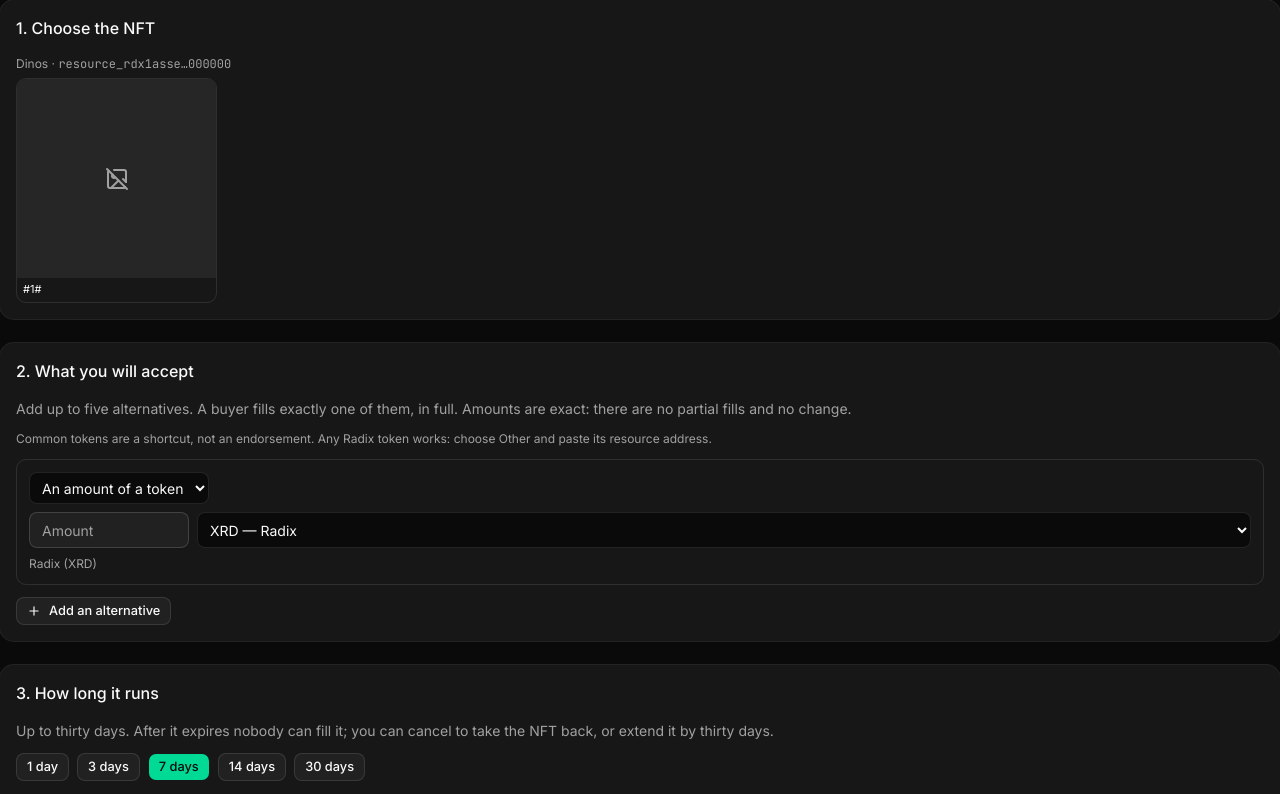
Scenario: ListNftForm — freeze guard, receipts and ask resources › a listing receipt cannot be asked for, even with locked roles
The width and height of the screenshot is (1280, 794).
Step 1. Click the button "#1#" → (117, 190), box [16,78,217,303]
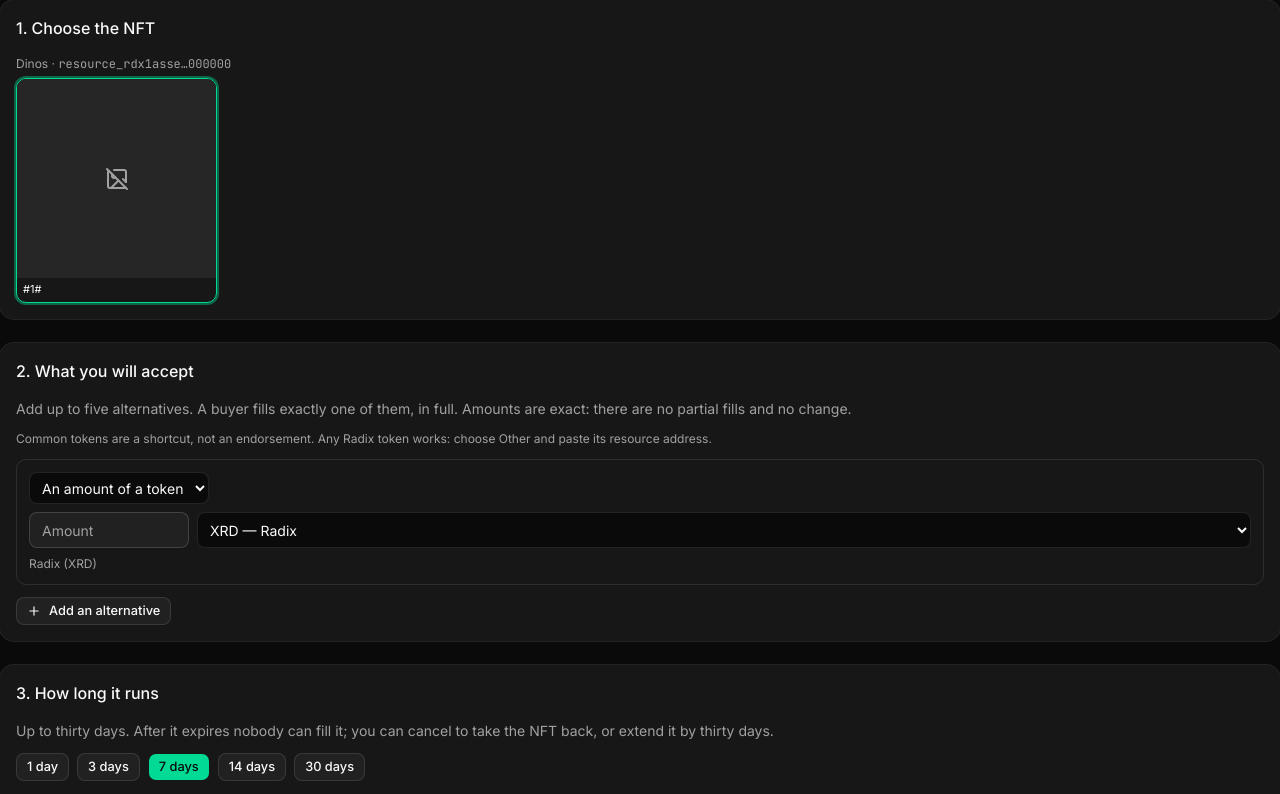
Step 2. Select "A specific NFT" in the dropdown named "Alternative 1 kind" → (119, 488), box [29,472,209,504]
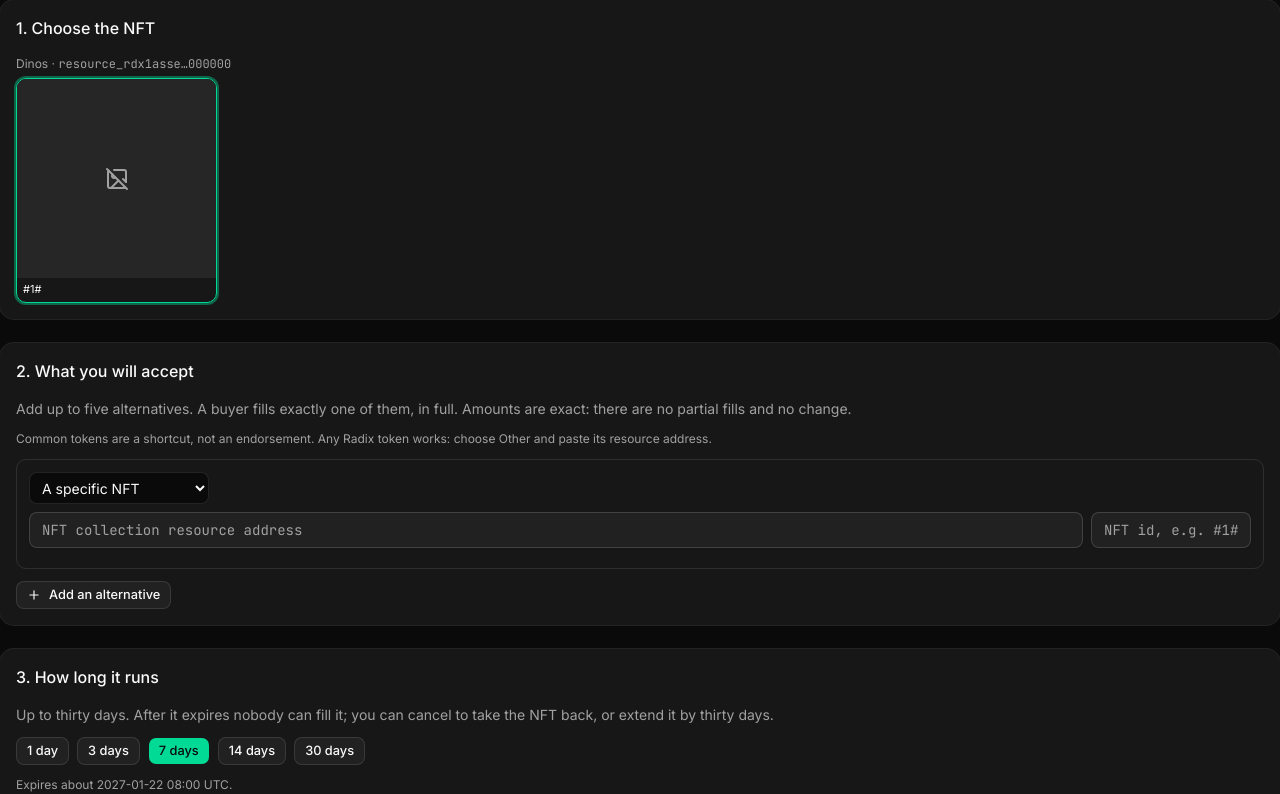
Step 3. Type "resource_rdx1receipt00000000000000000000000000000000000000000000" into the field named "Alternative 1 collection" → (556, 530), box [29,512,1083,548]
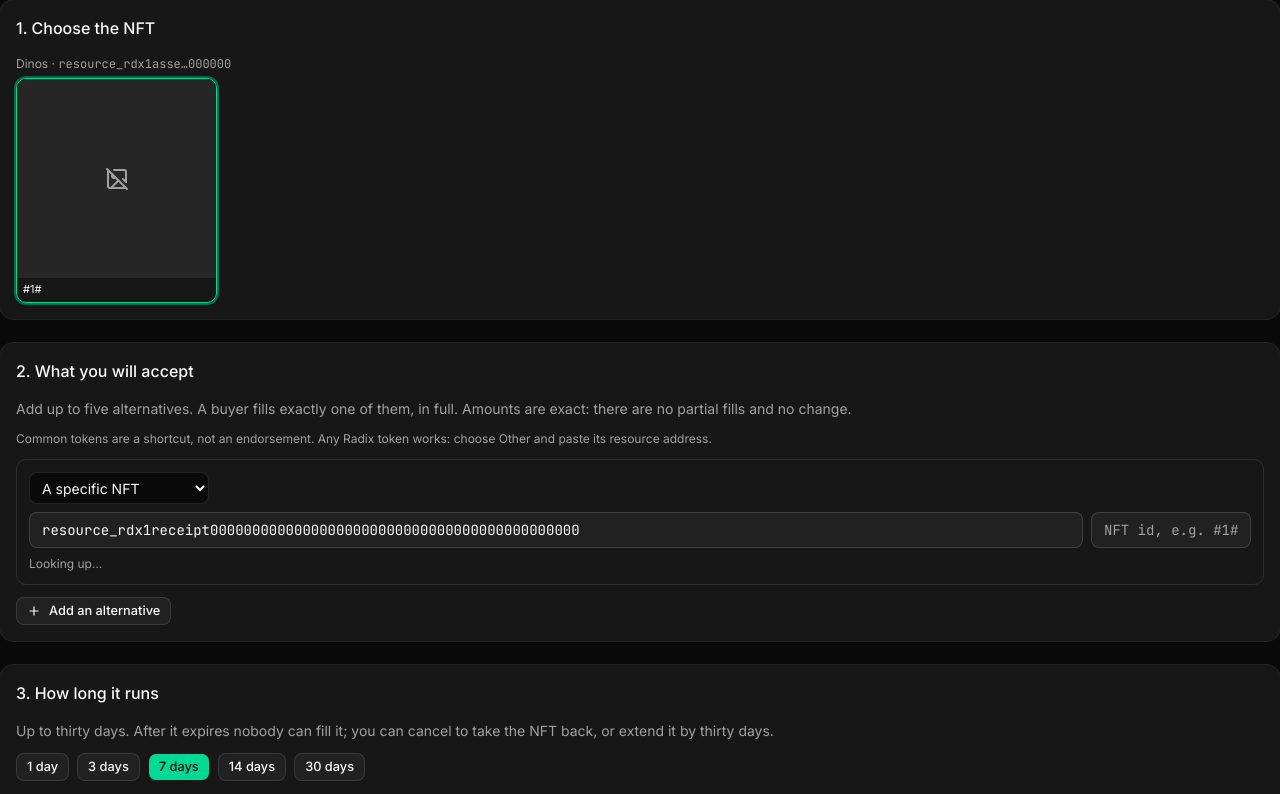
Step 4. Type "#2#" into the field named "Alternative 1 NFT id" → (1171, 530), box [1091,512,1251,548]
(page scrolled)
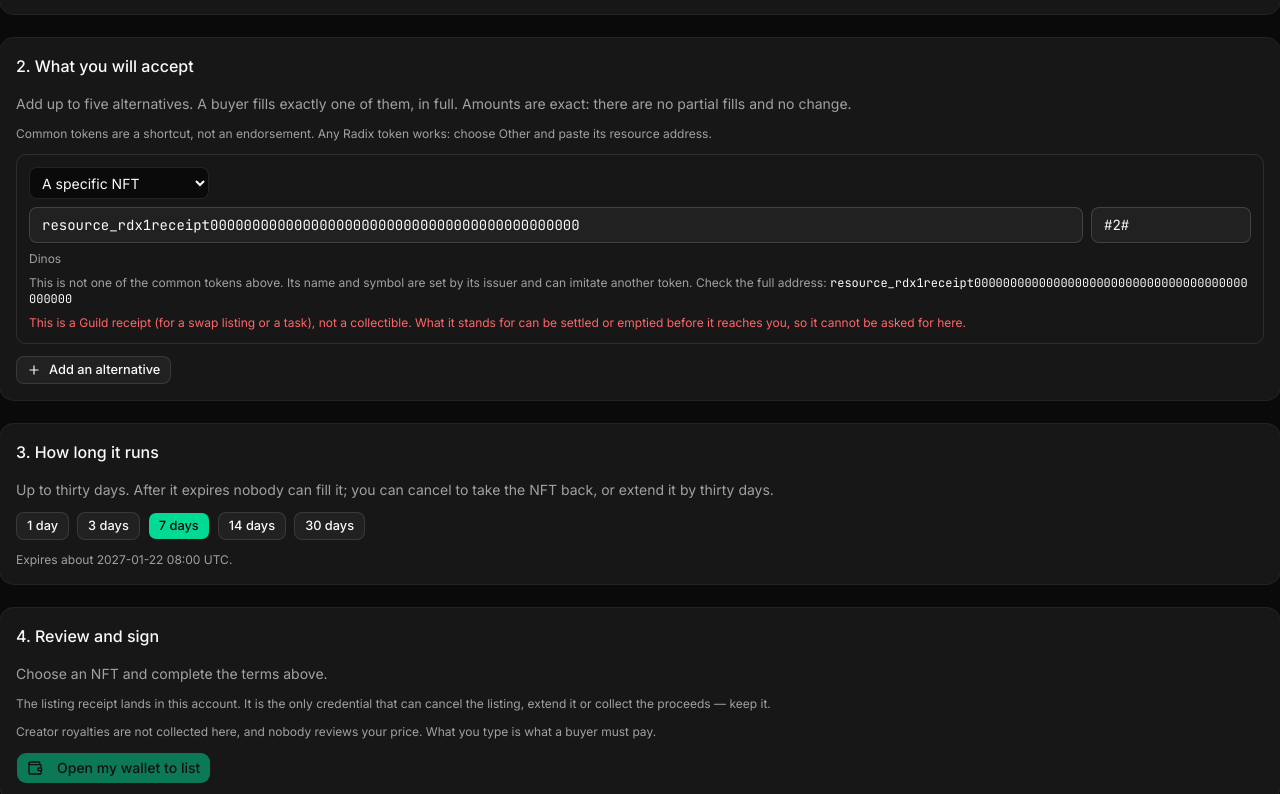
Expected: the button "Open my wallet to list" is disabled, [16,752,211,784]
Expected: the text "This is a Guild receipt (for a swap listing or a task), not a collectible. What it stands for can be settled or emptied " is shown, [29,315,966,330]
